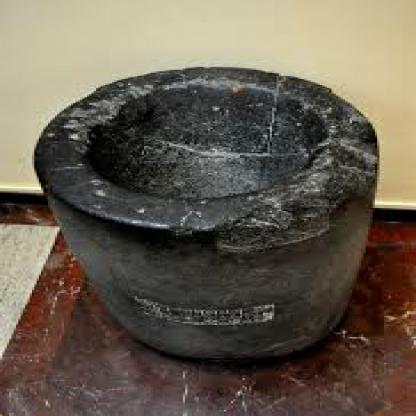Igneous_Diorite: (23, 56, 377, 371)
